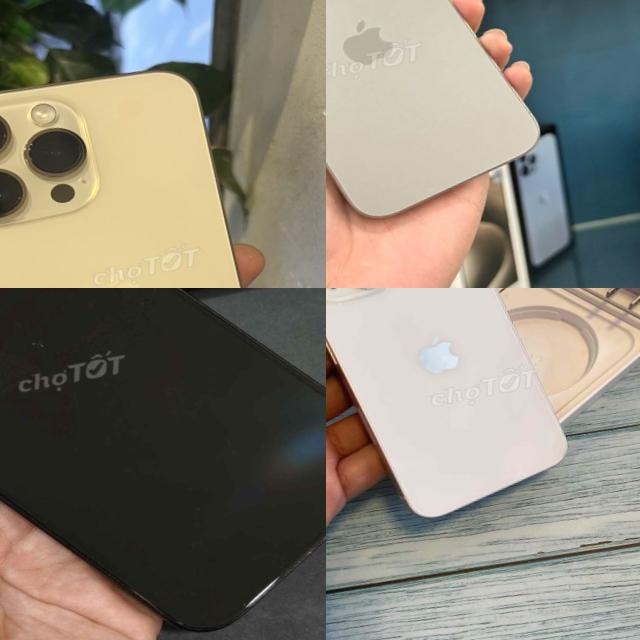gen_12_13: (326, 288, 582, 538)
gen_14: (0, 42, 298, 288)
gen_15: (0, 288, 326, 640), (326, 0, 565, 243)
